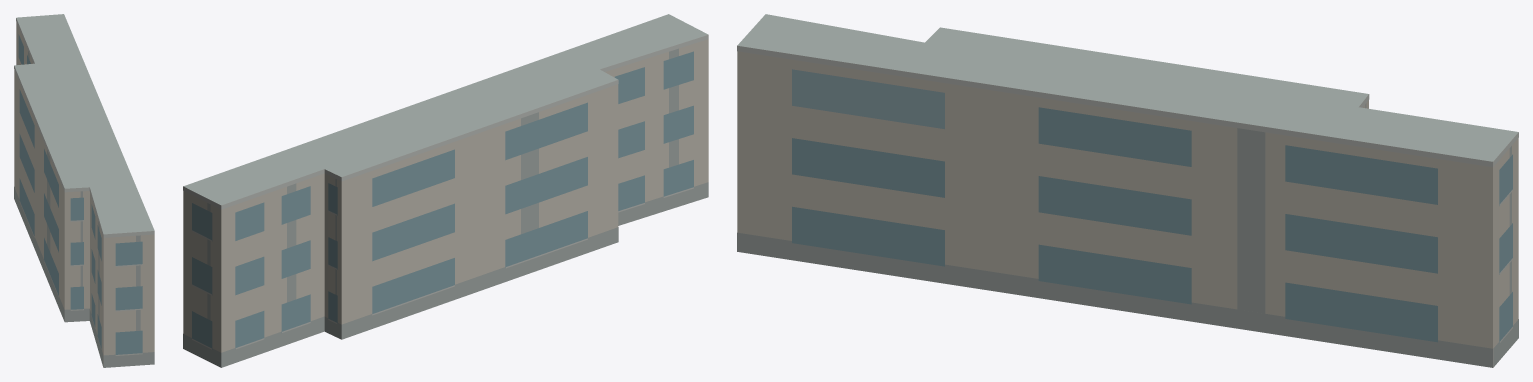
The model's file is survey-upis-32920544.glb.
3 views of the same model, side by side, from view 1: azimuth 30°, elevation 25°; view 2: azimuth 150°, elevation 25°; view 3: azimuth 270°, elevation 25° (orthographic). The views are drawn at different scales.
Parts seen in each view (by area): view 1: survey-upis-32920544.tmp; view 2: survey-upis-32920544.tmp; view 3: survey-upis-32920544.tmp.
Boxes of the visible parts, box(x1,y1,x2,y2) form: survey-upis-32920544.tmp: box(14, 14, 154, 367); survey-upis-32920544.tmp: box(183, 14, 708, 367); survey-upis-32920544.tmp: box(737, 14, 1518, 367).
Size of the model in its own units: 14.09 by 9.15 by 31.47.
